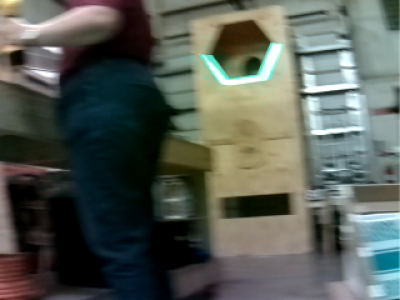target: (199, 44, 287, 87)
